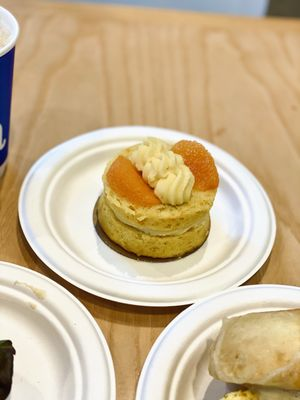pizza: (0, 4, 21, 180)
sushi: (135, 284, 299, 400), (0, 260, 117, 400)
